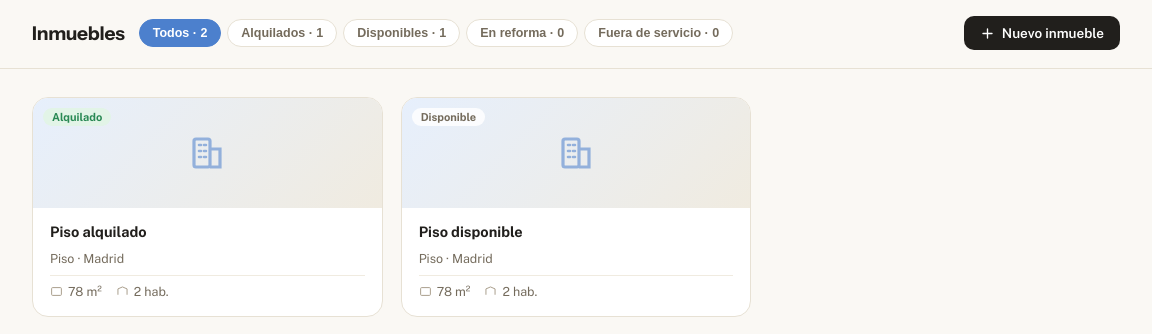
it: InmueblesListado › filtra por estado al hacer clic en un chip
The width and height of the screenshot is (1152, 334).
Expected: the text "Piso alquilado" is shown, [50,223,147,240]
Click the button "Disponibles · 1" at (402, 33), box [343,19,460,47]
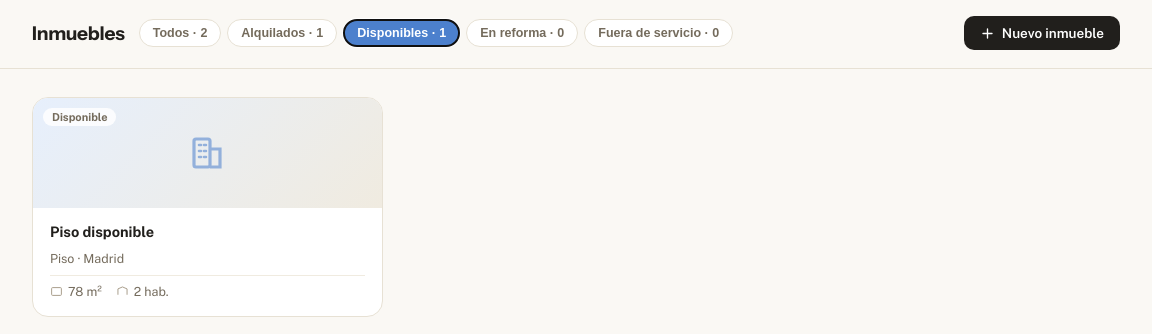
Expected: the text "Piso disponible" is shown, [50,223,154,240]
Now the link "Piso alquilado" is gone
